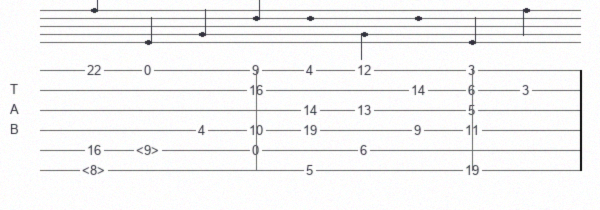0: (144, 63, 155, 77), (252, 143, 263, 157)
10: (249, 123, 267, 137)
11: (465, 123, 483, 137)
12: (357, 63, 375, 77)
13: (357, 103, 375, 117)
14: (303, 103, 321, 117), (411, 83, 429, 97)
16: (87, 143, 105, 157), (249, 83, 267, 97)
19: (303, 123, 321, 137), (465, 163, 483, 177)
22: (87, 63, 105, 77)
3: (468, 63, 479, 77), (522, 83, 533, 97)
4: (198, 123, 209, 137), (306, 63, 317, 77)
5: (306, 163, 317, 177), (468, 103, 479, 117)
6: (360, 143, 371, 157), (468, 83, 479, 97)
9: (252, 63, 263, 77), (414, 123, 425, 137)
harmonic: (82, 163, 109, 177), (136, 143, 163, 157)
